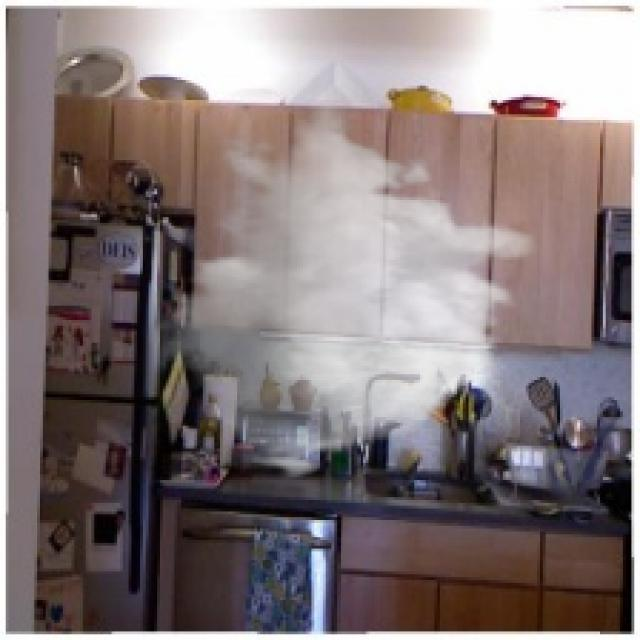Smoke: (145, 100, 540, 483)
